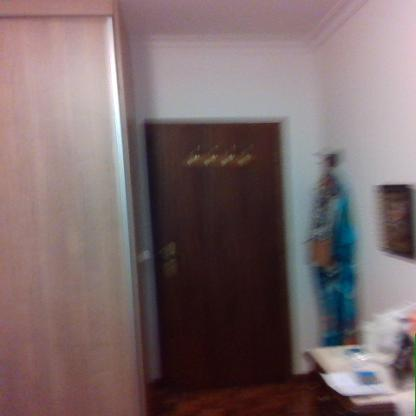closed: (146, 109, 291, 393)
